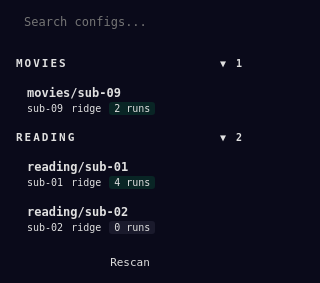
it: <ConfigBrowser /> › toggles a group when its header is clicked
Expected: the text "reading/sub-01" is shown, top-left (27, 160), bottom-right (128, 174)
Click the text "reading": coordinates (46, 138) top-left (16, 131), bottom-right (76, 144)
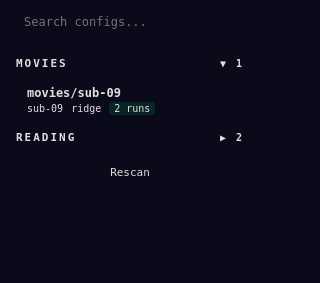
Expected: the text "reading/sub-01" is gone
